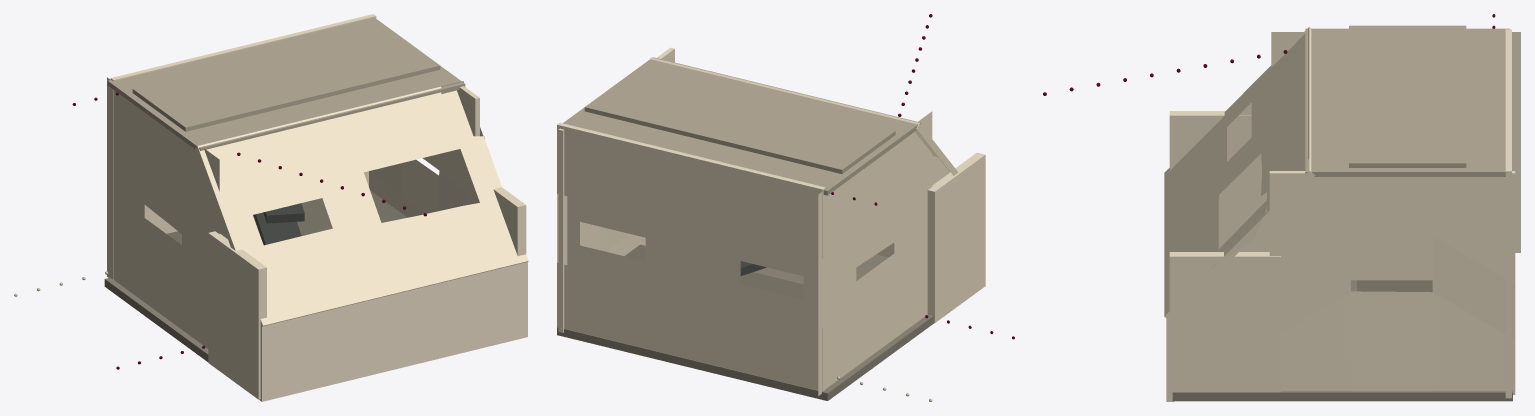
File: WholeTankInterior.glb
3 renders of one model, left to right at view 1: azimuth 30°, elevation 25°; view 2: azimuth 150°, elevation 25°; view 3: azimuth 270°, elevation 25°, orthographic. The views are drawn at different scales.
Visible parts, largest first — view 1: Cube, Cube.003, Cube.002, Cube.007, Cube.011, Cube.008, Cube.005, Cube.010, Cube.006, Cube.009, Cube.004, Cube.001; view 2: Cube.005, Cube.003, Cube.007, Cube.011, Cube.004, Cube.008, Cube, Cube.006; view 3: Cube.008, Cube.003, Cube, Cube.010, Cube.004, Cube.011, Cube.005, Cube.001, Cube.007, Cube.006, Cube.002.
Part boxes in pixels (box(x1,y1,x2,y2)): Cube: box(195, 81, 528, 326); Cube.003: box(107, 17, 465, 150); Cube.002: box(259, 262, 527, 401); Cube.007: box(107, 77, 219, 348); Cube.011: box(208, 231, 266, 399); Cube.008: box(369, 86, 479, 217); Cube.005: box(110, 14, 376, 279); Cube.010: box(467, 170, 526, 255); Cube.006: box(167, 190, 407, 244); Cube.009: box(253, 203, 304, 245); Cube.004: box(104, 277, 208, 361); Cube.001: box(219, 184, 332, 249); Cube.005: box(557, 122, 825, 391); Cube.003: box(563, 57, 920, 195); Cube.007: box(818, 111, 932, 395); Cube.011: box(927, 152, 985, 323); Cube.004: box(557, 254, 933, 400); Cube.008: box(558, 47, 674, 332); Cube: box(650, 57, 958, 175); Cube.006: box(624, 244, 803, 299); Cube.008: box(1269, 171, 1515, 394); Cube.003: box(1305, 25, 1509, 176); Cube: box(1164, 27, 1315, 317); Cube.010: box(1169, 252, 1280, 392); Cube.004: box(1172, 280, 1512, 401); Cube.011: box(1169, 111, 1269, 251); Cube.005: box(1505, 29, 1511, 398); Cube.001: box(1218, 99, 1261, 238); Cube.007: box(1271, 32, 1520, 252); Cube.006: box(1357, 280, 1432, 292); Cube.002: box(1166, 316, 1174, 401).
Size of the model in its own units: 9.88 by 5.5 by 10.11.
